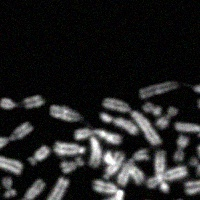chromosome: (102, 98, 163, 145), (104, 151, 143, 183), (118, 150, 149, 185), (147, 166, 187, 189), (101, 112, 138, 135), (30, 177, 67, 200), (0, 122, 31, 149), (74, 128, 122, 145), (139, 81, 178, 98), (154, 150, 169, 193), (15, 180, 45, 200), (49, 104, 81, 121), (185, 158, 200, 193), (104, 153, 124, 178), (156, 107, 178, 129), (0, 153, 21, 175), (60, 156, 85, 173), (28, 145, 49, 165), (174, 121, 200, 137), (89, 137, 102, 169), (54, 141, 85, 154), (92, 181, 117, 195), (174, 136, 188, 160), (24, 95, 44, 109), (2, 178, 15, 198), (102, 190, 124, 200), (143, 103, 161, 115), (188, 158, 200, 176), (1, 98, 17, 109), (192, 85, 200, 96), (198, 145, 200, 172), (173, 199, 200, 200), (199, 100, 200, 114)
